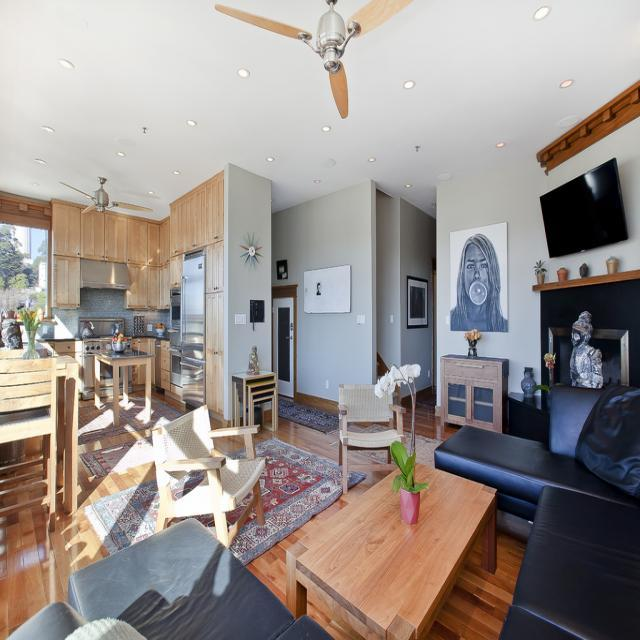fan_off: (213, 0, 413, 121), (58, 179, 161, 218)
